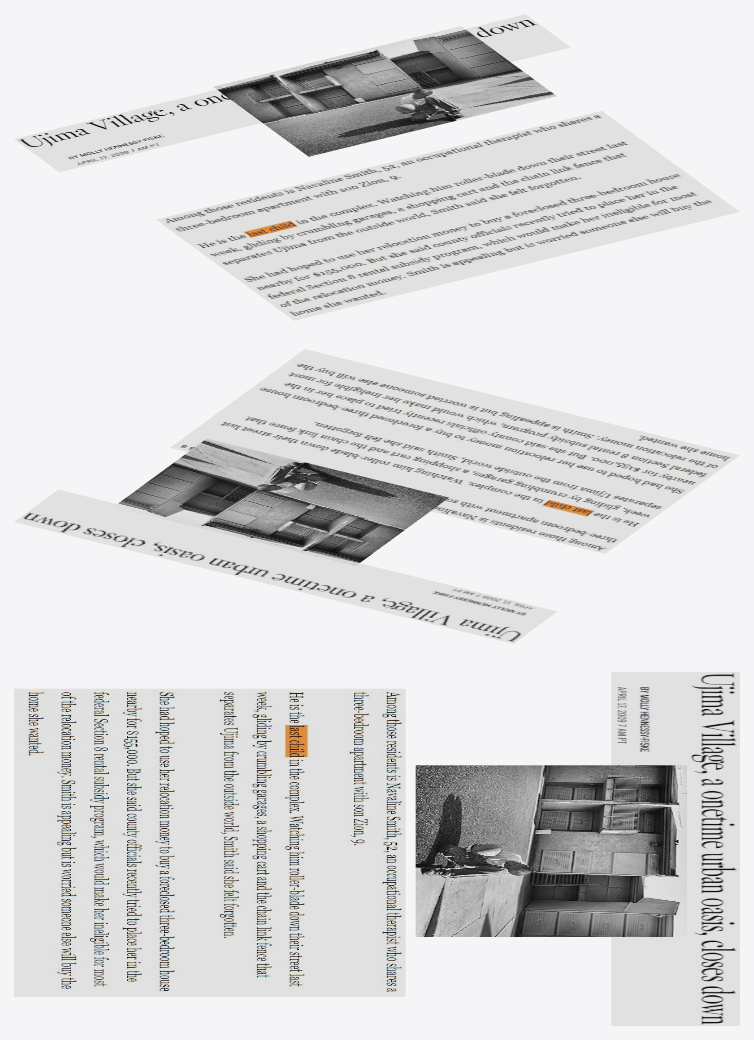
File: asset.glb
3 views of the same model, one above another, from view 1: azimuth 30°, elevation 25°; view 2: azimuth 150°, elevation 25°; view 3: azimuth 270°, elevation 25° (orthographic). The views are drawn at different scales.
Visible parts, largest first — view 1: Ujima-article, Last Child in Ujima Village, ujima-headline; view 2: Ujima-article, Last Child in Ujima Village, ujima-headline; view 3: Ujima-article, Last Child in Ujima Village, ujima-headline.
Boxes of the visible parts, x1,y1,x2,y2 form: Ujima-article: [156, 111, 739, 320]; Last Child in Ujima Village: [213, 26, 556, 156]; ujima-headline: [14, 14, 570, 172]; Ujima-article: [170, 349, 739, 553]; Last Child in Ujima Village: [114, 438, 448, 565]; ujima-headline: [14, 489, 557, 643]; Ujima-article: [14, 688, 405, 996]; Last Child in Ujima Village: [415, 765, 686, 936]; ujima-headline: [611, 672, 739, 1025].
Size of the model in its own units: 6.5 by 0.2689 by 5.64.
Materials: 3 (3 with a texture image).
